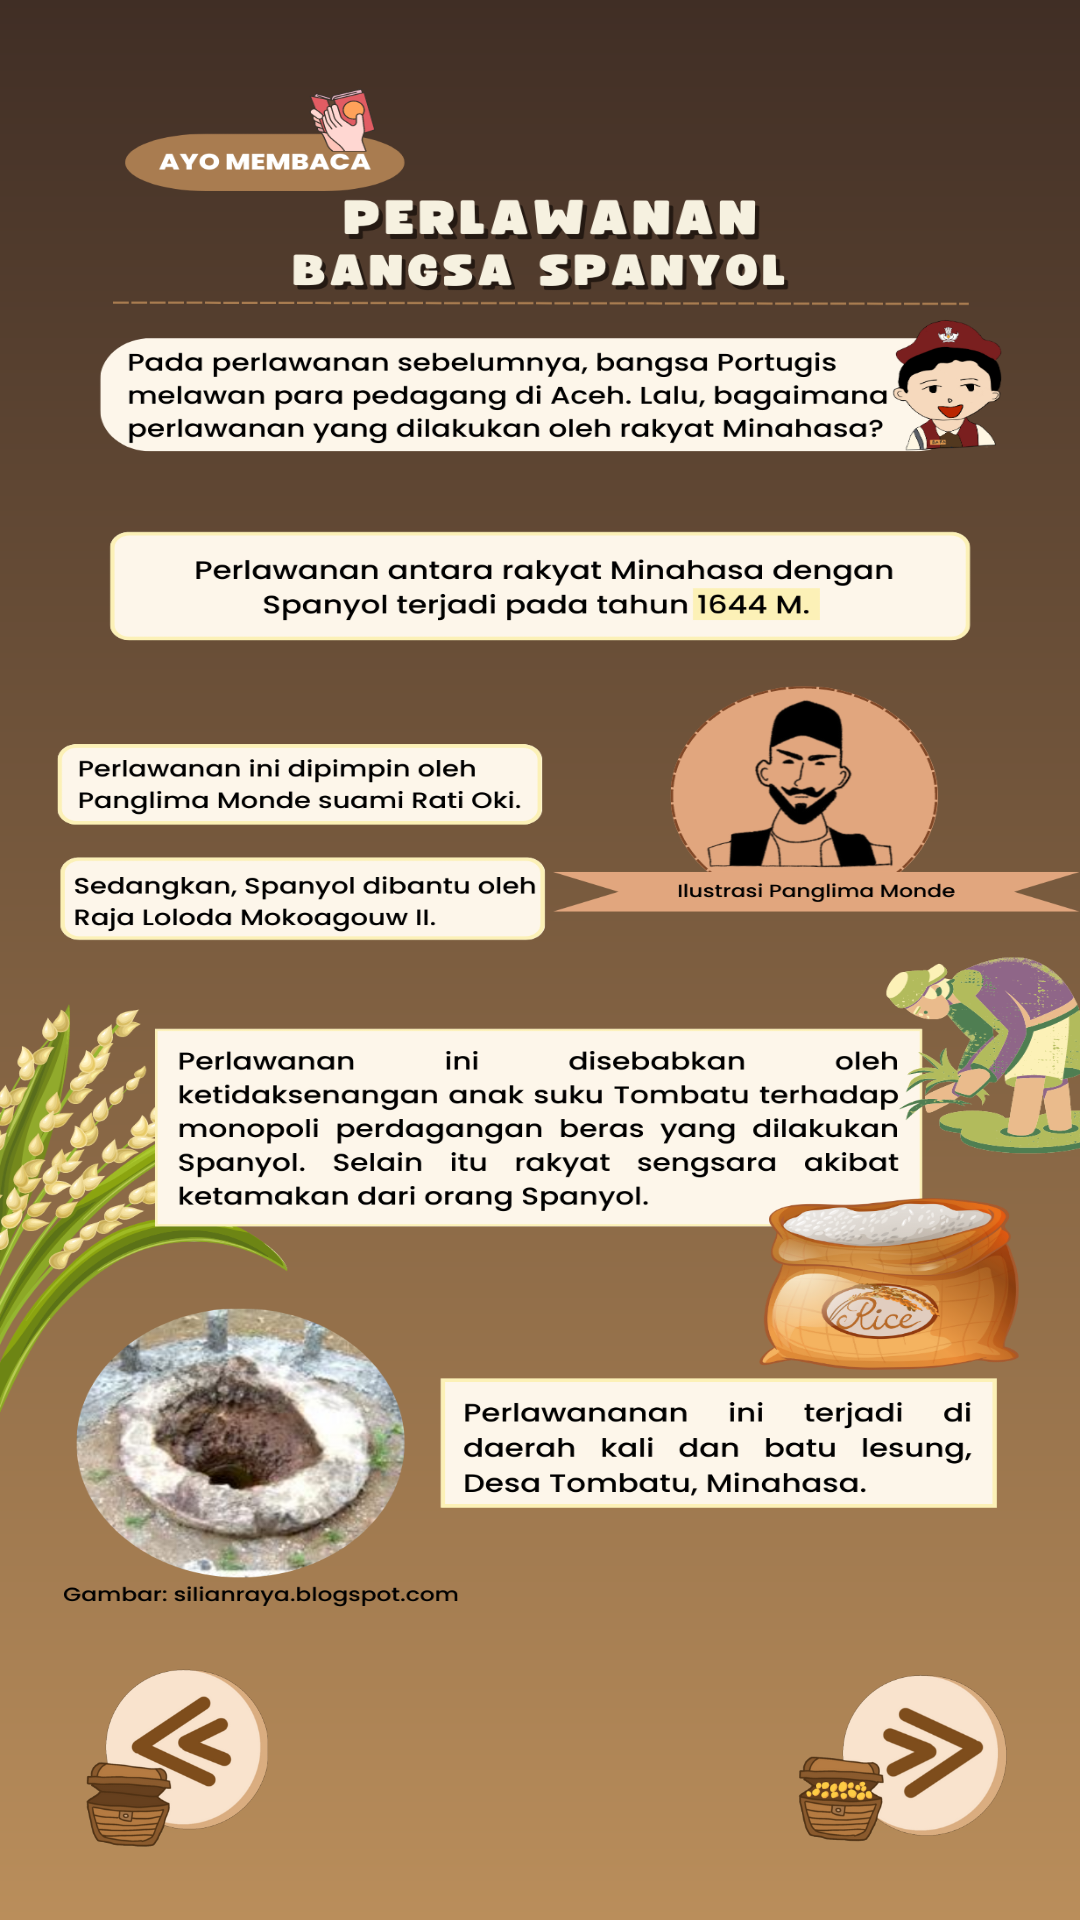

Screen size 1080*1920. Icon name, then its center in pixels as [x,y]:
next: [902,1758]
prev: [177,1758]
